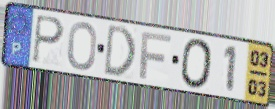1: (222, 45, 238, 94)
D: (102, 22, 137, 77)
F: (138, 30, 173, 81)
O: (180, 37, 214, 91), (66, 20, 99, 72)
P: (32, 13, 66, 65)
